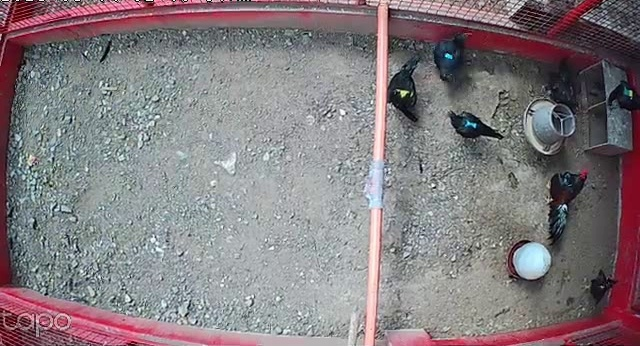Chicken: (386, 54, 425, 124), (540, 55, 581, 112), (432, 29, 474, 84), (445, 104, 502, 142), (604, 75, 640, 116), (583, 269, 618, 305)
Rooster: (540, 163, 589, 248)
Saddle_Color_Blue: (446, 52, 453, 60)
Saddle_Color_Yellow: (394, 88, 414, 100)
Saddle_Color_YellowGreen: (625, 89, 633, 98)
